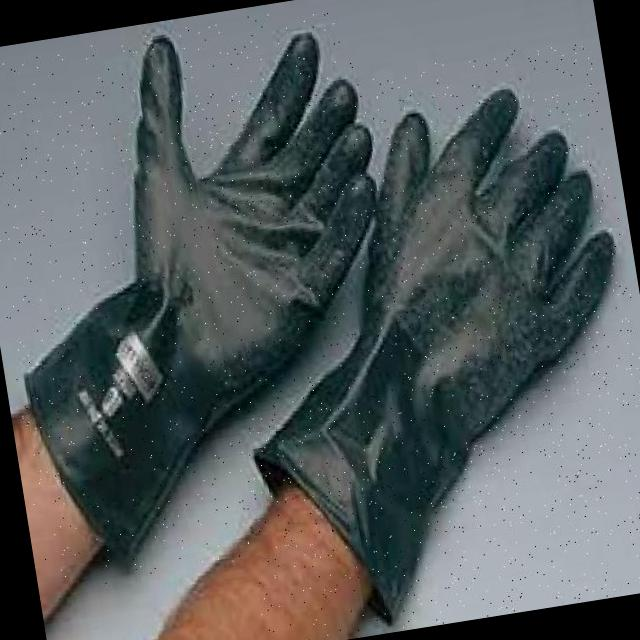gloves: (0, 3, 441, 591), (193, 65, 640, 640)
